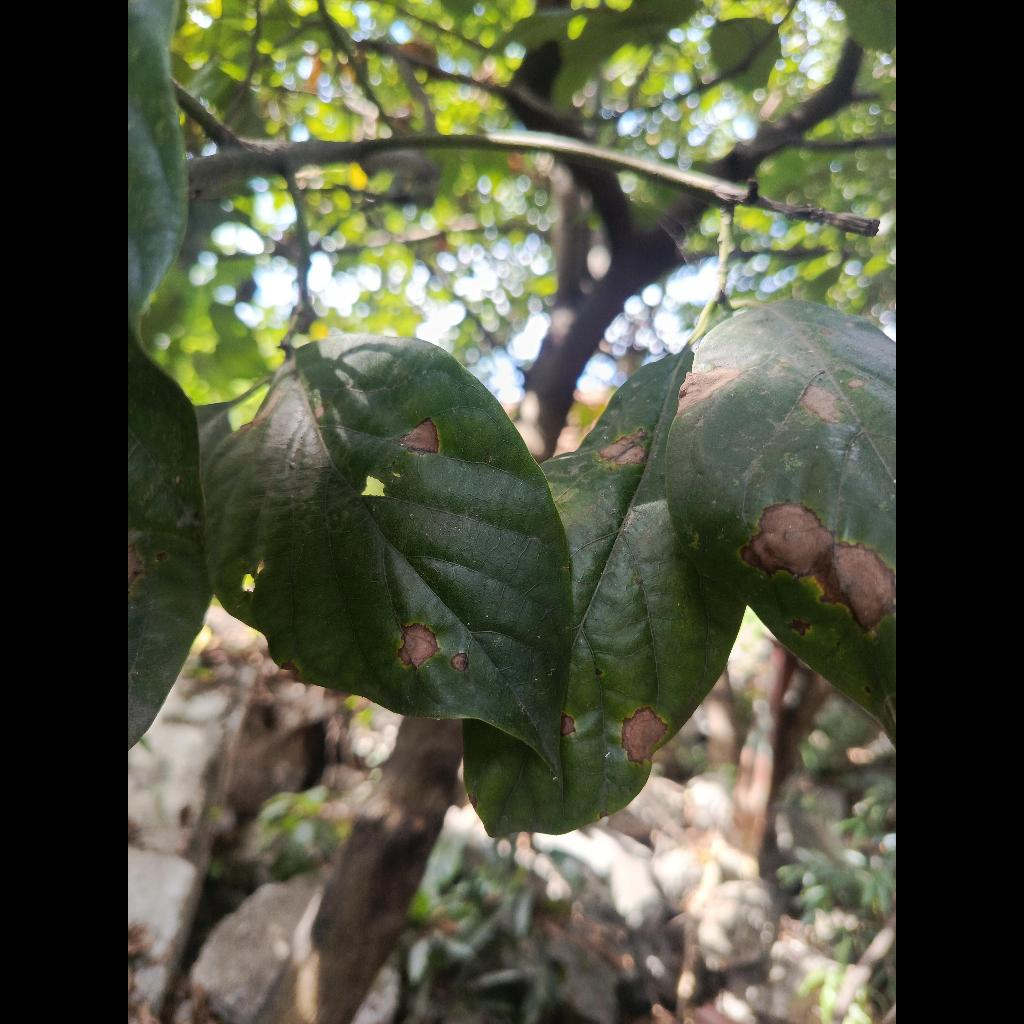Anthracnose: (203, 335, 571, 777), (667, 302, 896, 738)
